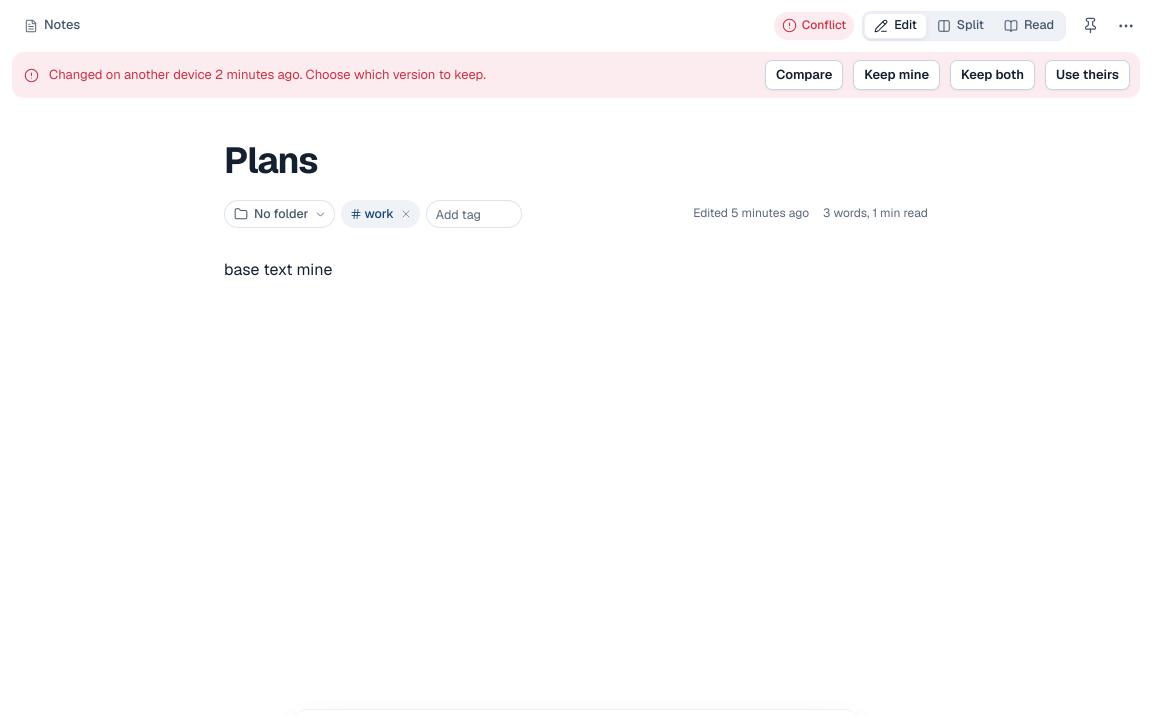
Test: a conflict with another device › Use theirs shows their text, keeping this device’s in the note’s history, and saves nothing over theirs
Step 1. Click the button "Use theirs" → (1088, 75), box [1045,60,1130,90]
Wait 2000 ms
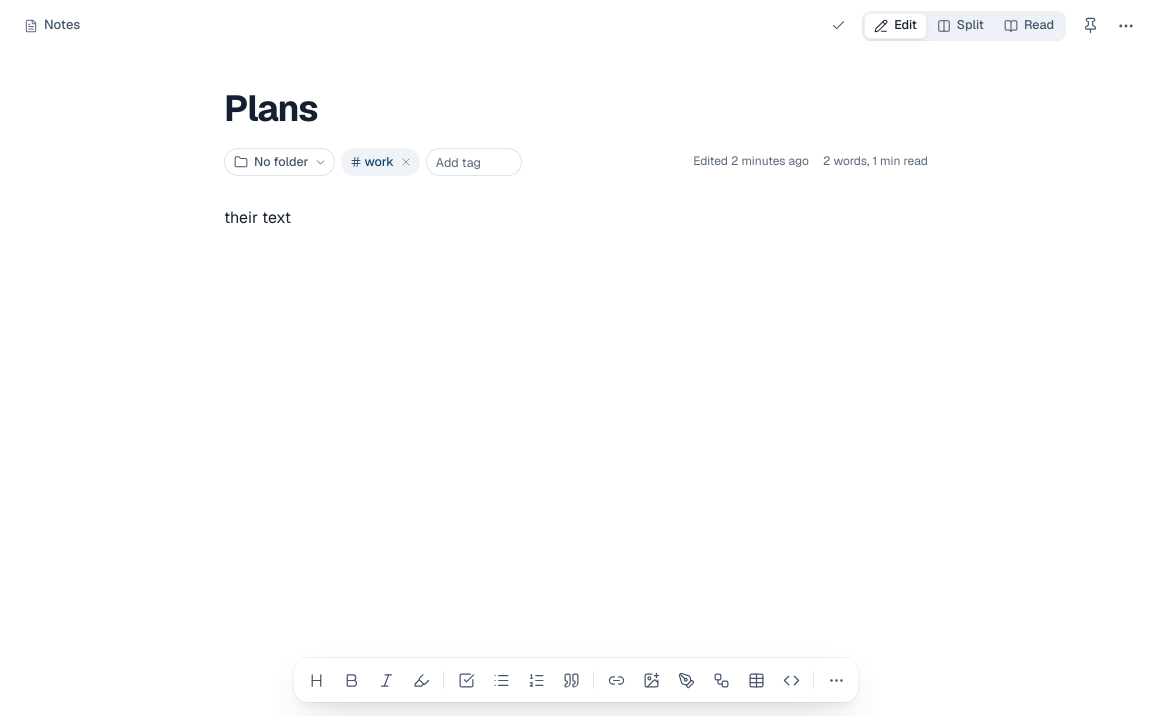
Expected: the message with class "alert-danger" is gone
Expected: the text box labelled "their text" is shown, [224,207,291,228]
